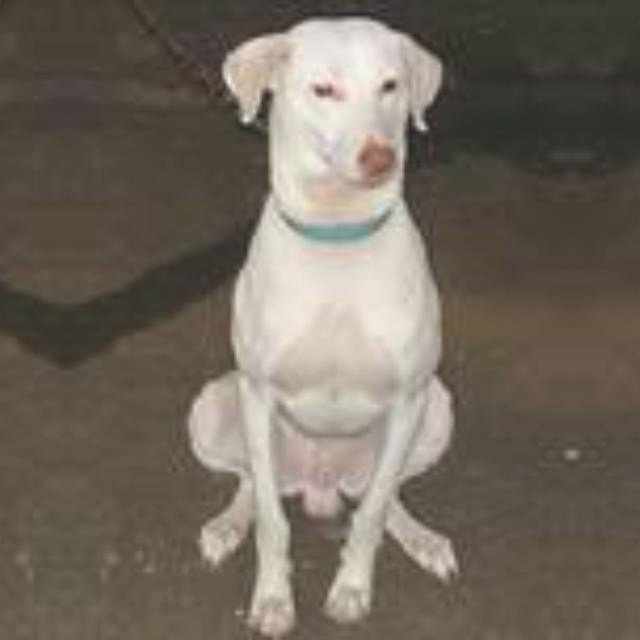dog: (108, 28, 458, 640), (0, 28, 27, 640)
